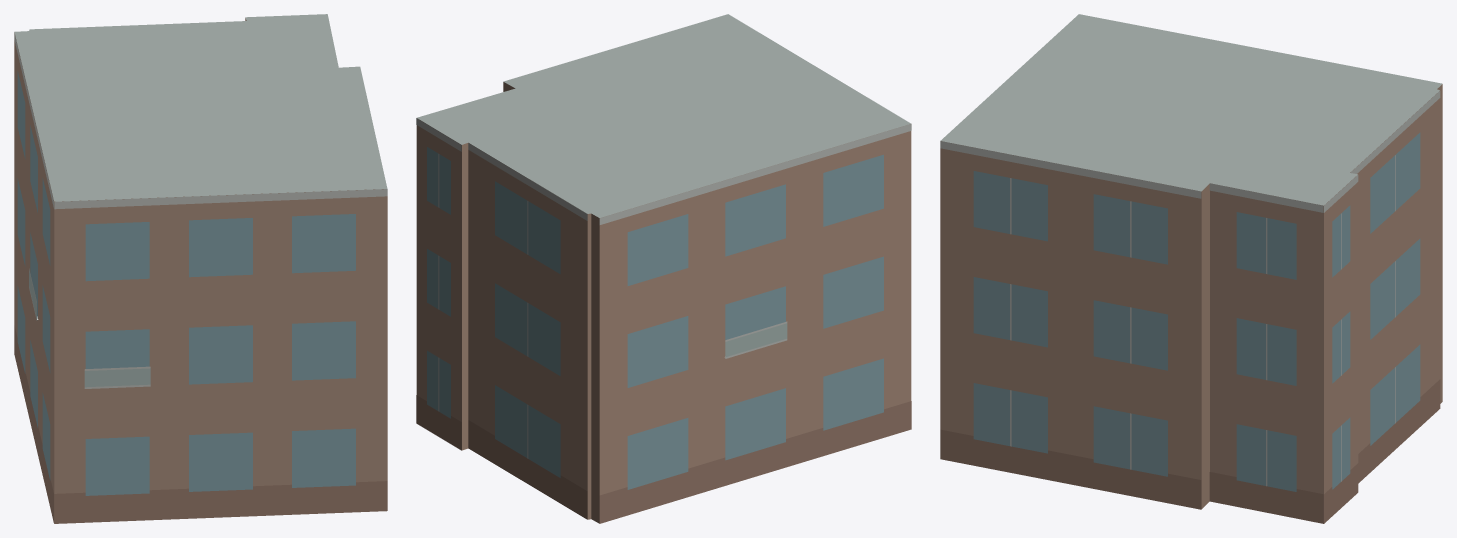
File: survey-upis-32657024.glb
The picture shows the model from 3 angles, left to right: view 1: azimuth 30°, elevation 25°; view 2: azimuth 150°, elevation 25°; view 3: azimuth 270°, elevation 25°; orthographic projection. The views are drawn at different scales.
Visible parts, largest first — view 1: survey-upis-32657024.tmp; view 2: survey-upis-32657024.tmp; view 3: survey-upis-32657024.tmp.
Boxes of the visible parts, x1=… form: survey-upis-32657024.tmp: x1=14, y1=14, x2=387, y2=523; survey-upis-32657024.tmp: x1=416, y1=14, x2=911, y2=523; survey-upis-32657024.tmp: x1=940, y1=14, x2=1442, y2=523.
Size of the model in its own units: 13.57 by 10.5 by 15.03.
